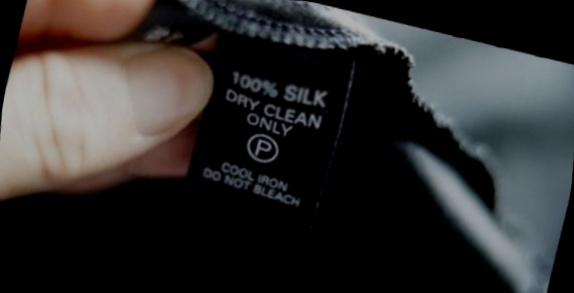dry_clean_any_solvent_except_trichloroethylene: (241, 125, 288, 170)
